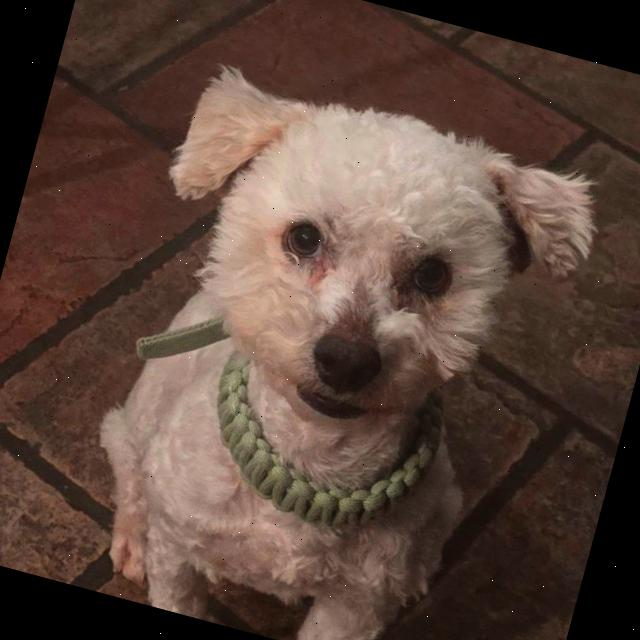Poodle_dog: (98, 44, 630, 506)
